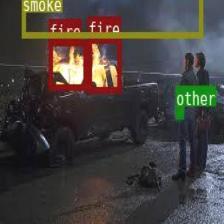fire: (48, 39, 86, 88), (87, 36, 120, 92)
smoke: (21, 0, 202, 37)
